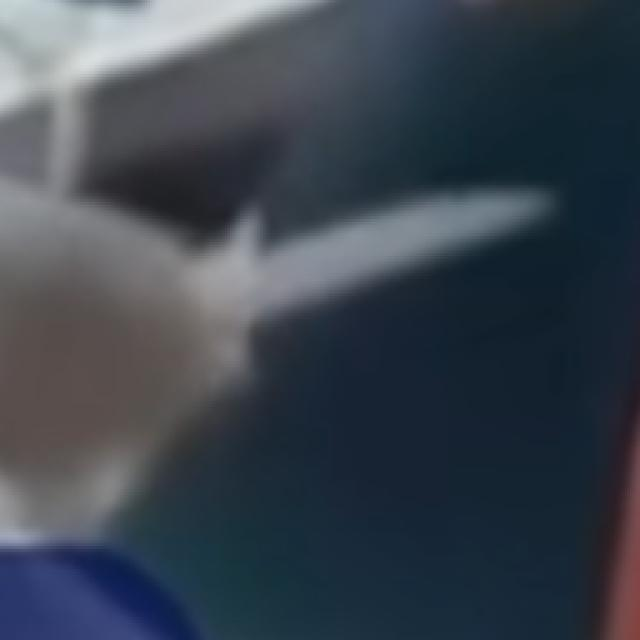Fknife: (166, 169, 576, 389)
